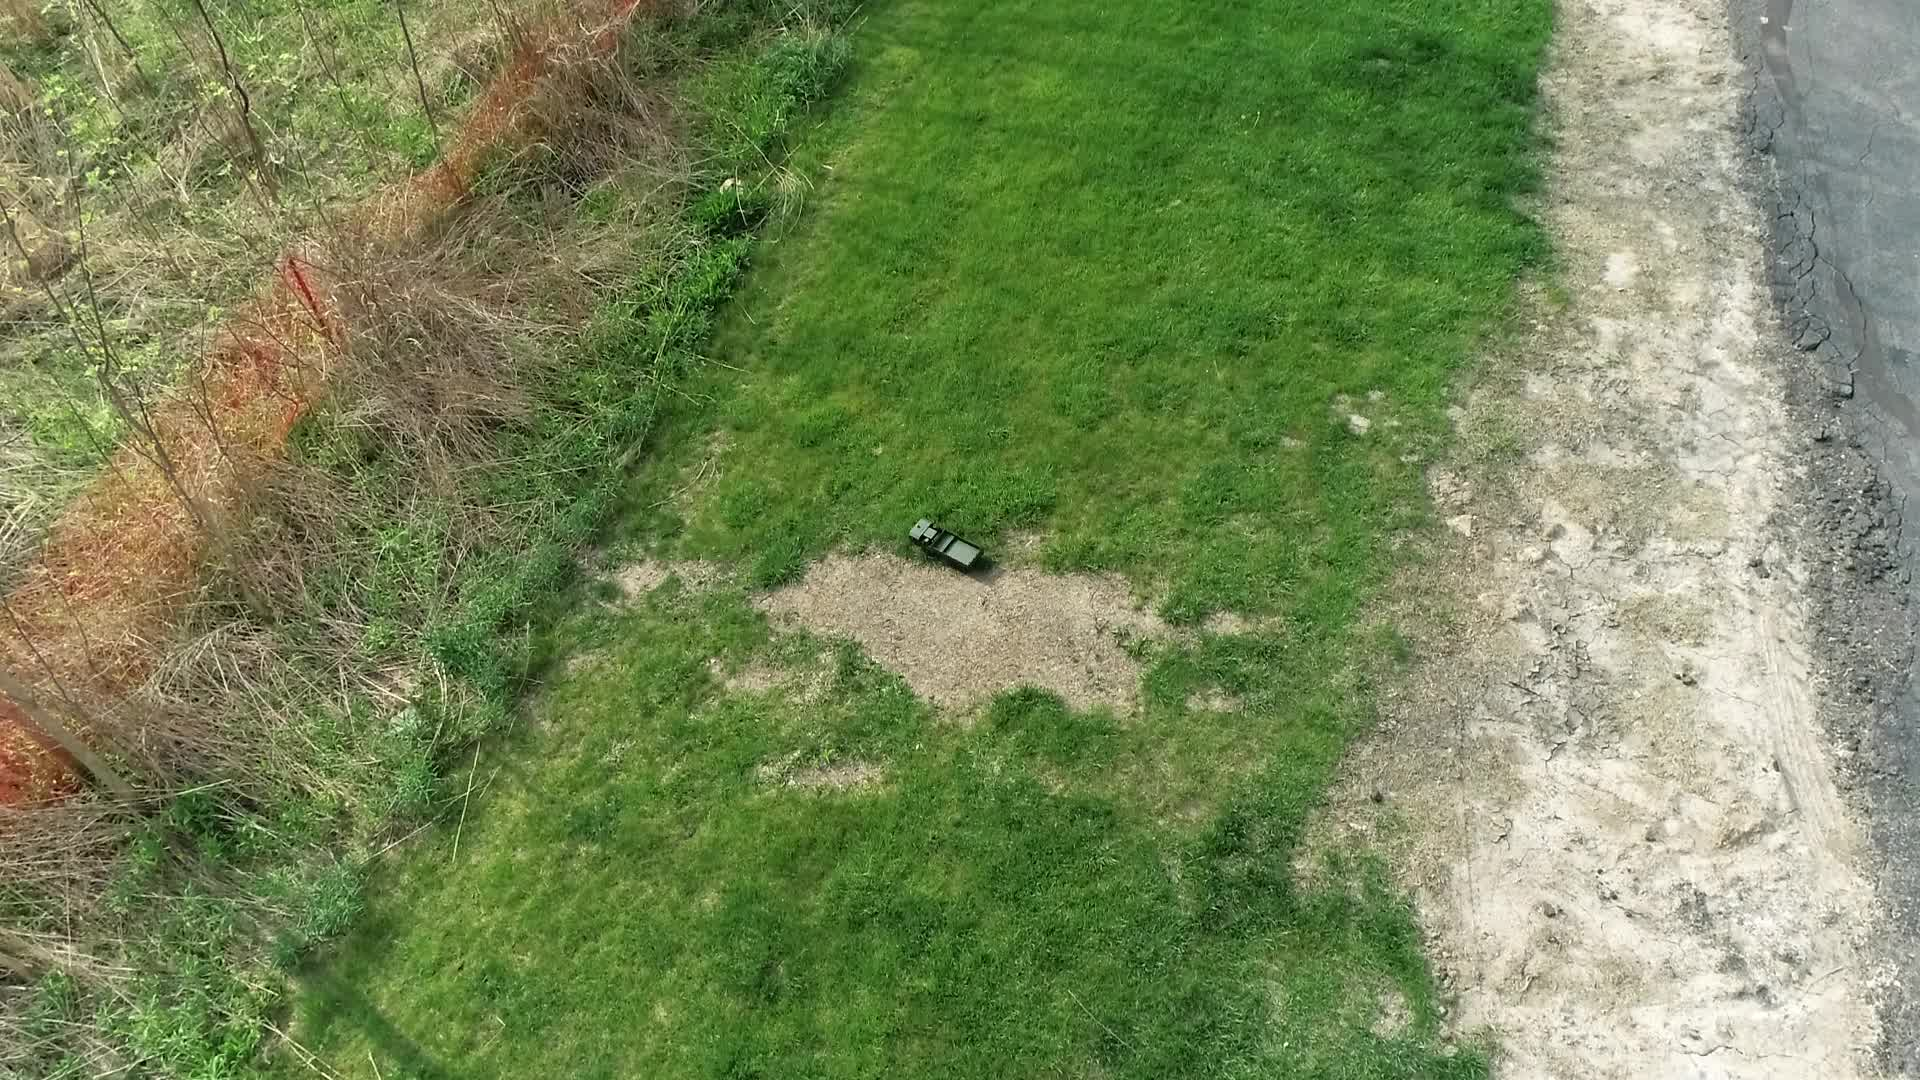transporter9: (905, 517, 986, 576)
